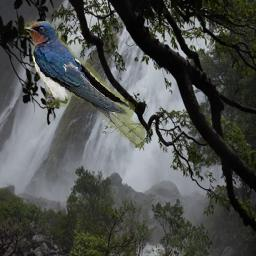Swallow: (25, 22, 146, 149)
